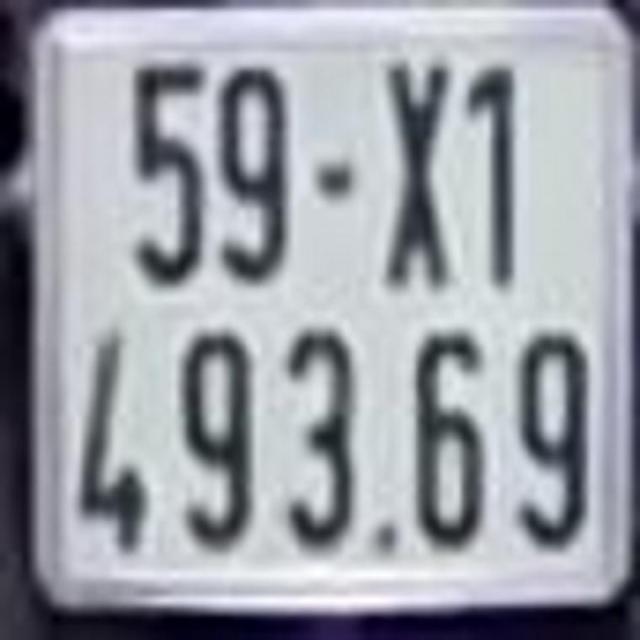1: (462, 44, 539, 295)
3: (280, 312, 363, 554)
4: (66, 319, 155, 566)
5: (115, 47, 208, 292)
6: (406, 312, 486, 563)
9: (210, 40, 290, 299), (513, 312, 597, 550), (177, 314, 259, 556)
X: (382, 47, 458, 292)
